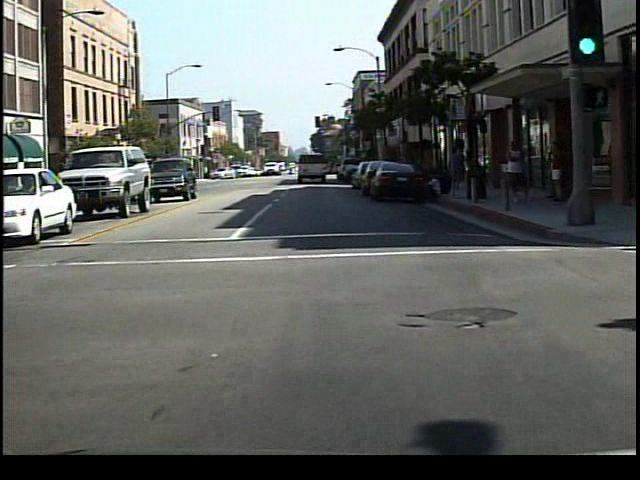person: (501, 136, 536, 213), (444, 143, 467, 200)
